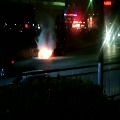fire: (38, 49, 52, 59)
